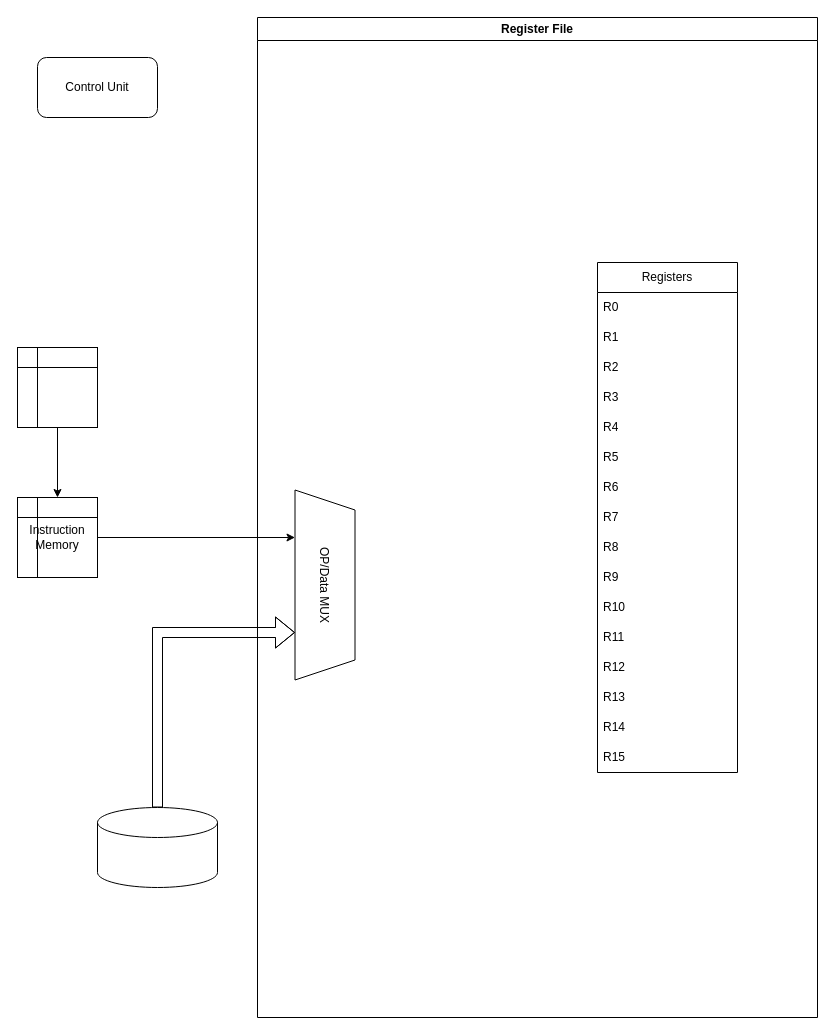
Image size: 835x1035. Some labels were removed from this diagram. The box of each missing label's shape, as (x1, y1, x2, y2) in pixels:
Data Memory: (96, 806, 218, 888)
PC: (16, 346, 98, 428)
